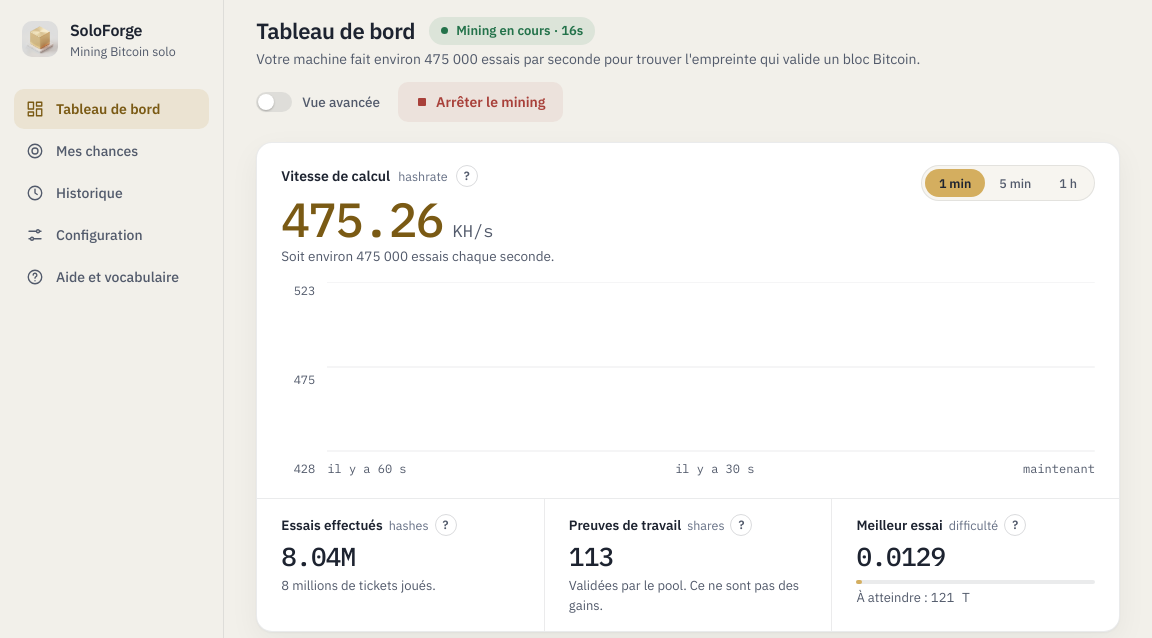
Test case: dashboard › reveals the advanced cards and remembers the choice
The image size is (1152, 638).
expect the text "Connexion au pool" is not shown: met
Click the switch labelled "Vue avancée" at (318, 102), box [256, 82, 380, 122]
(page scrolled)
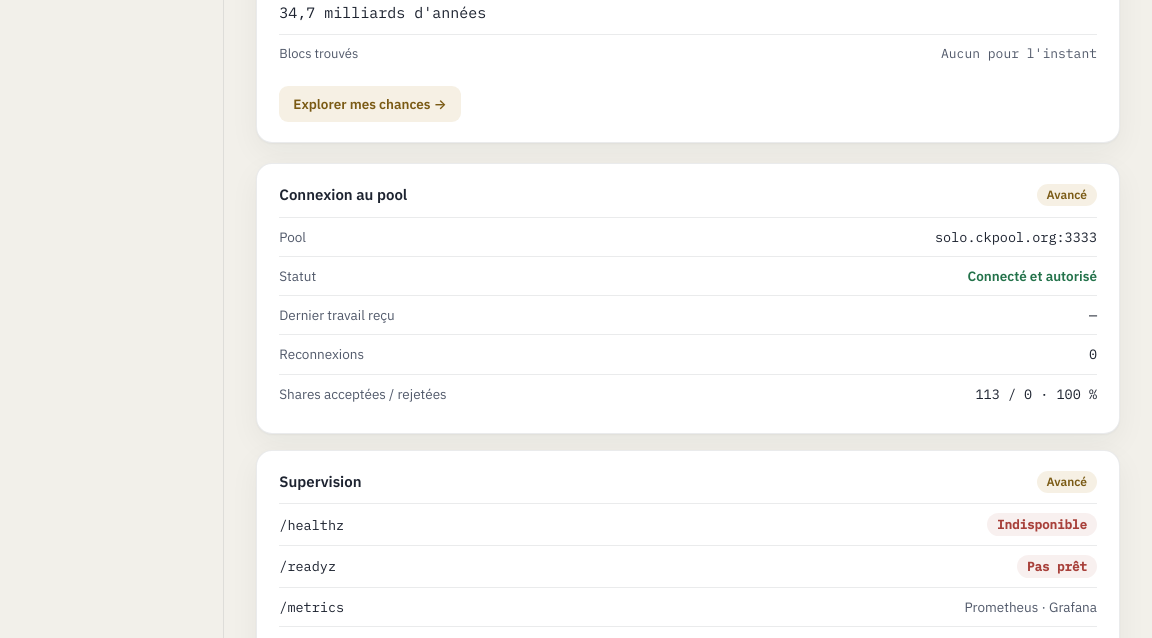
expect the heading "Connexion au pool" is shown: met, box [279, 184, 407, 206]
expect the heading "Supervision" is shown: met, box [279, 471, 362, 493]
expect the text "113 / 0 · 100 %" is shown: met, box [976, 384, 1097, 404]
